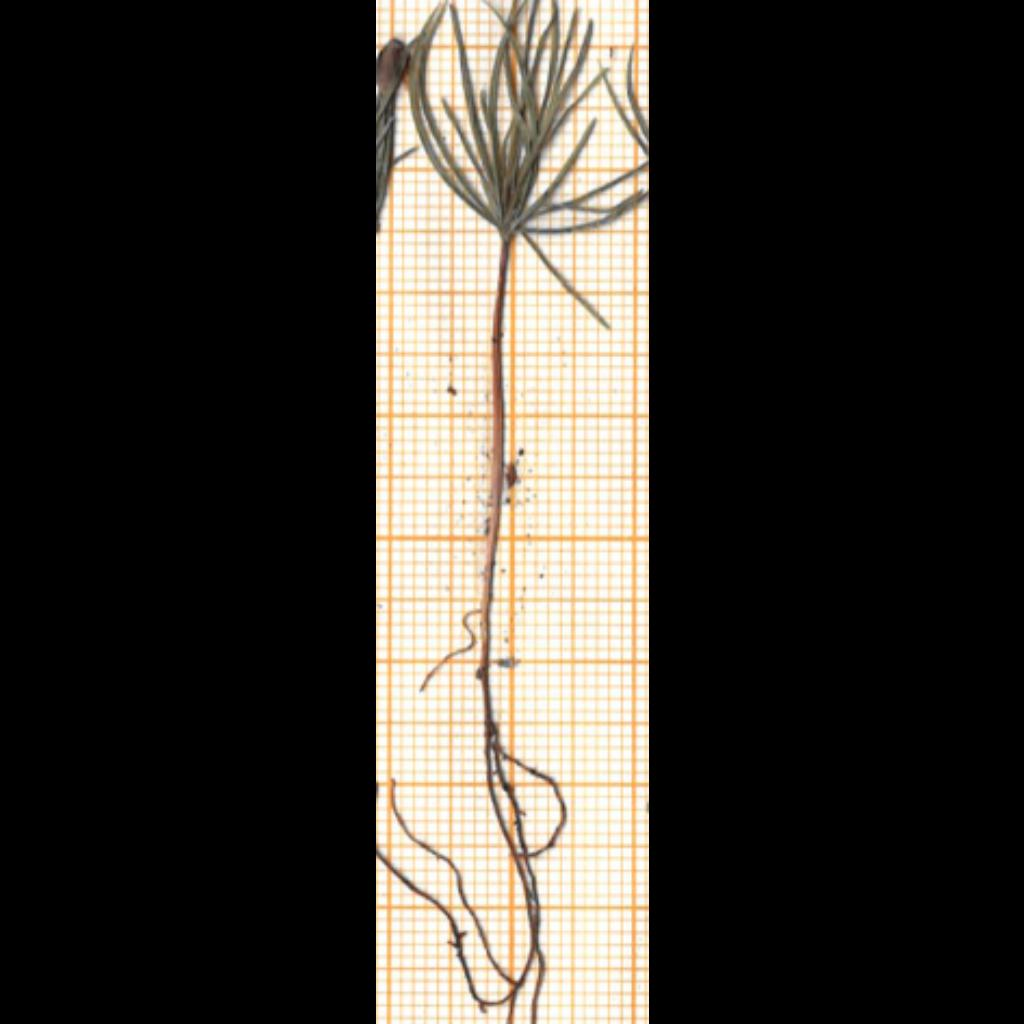flowerPinus: (409, 0, 646, 243)
rootPinus: (376, 674, 566, 1023)
stemPinus: (483, 242, 510, 667)
